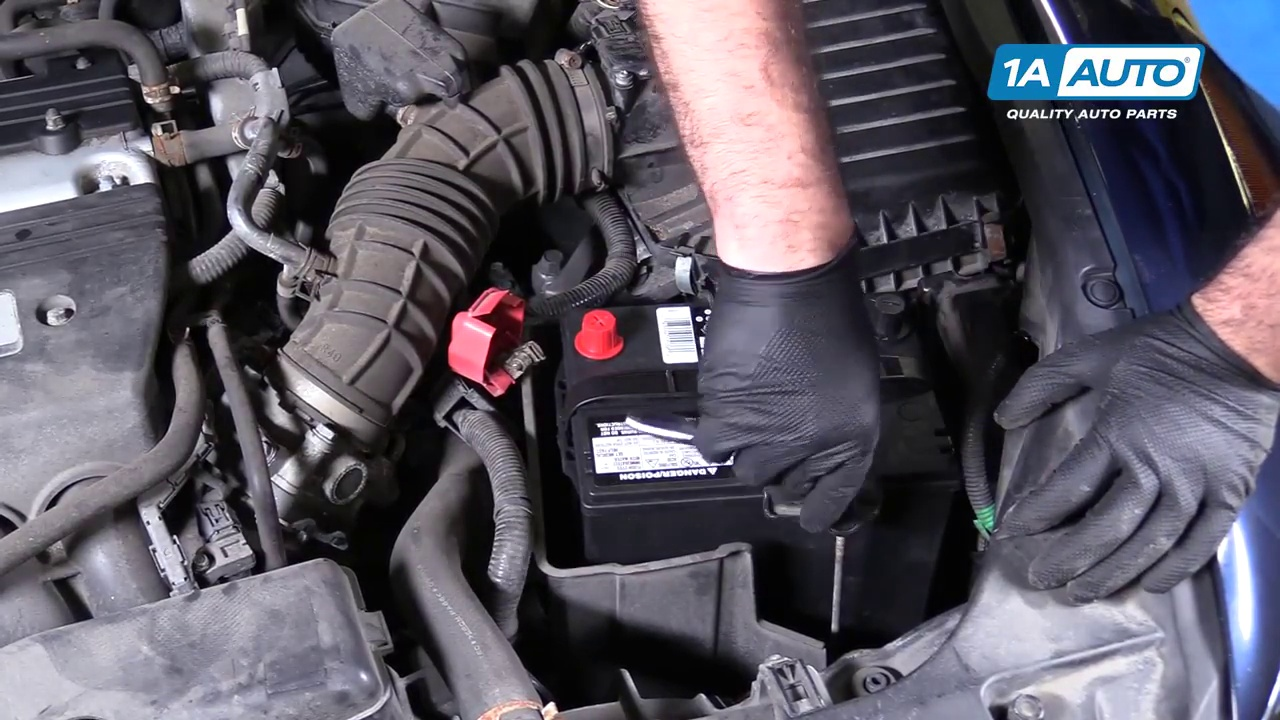battery: (551, 304, 964, 492)
pos_disconnected: (436, 280, 632, 392)
